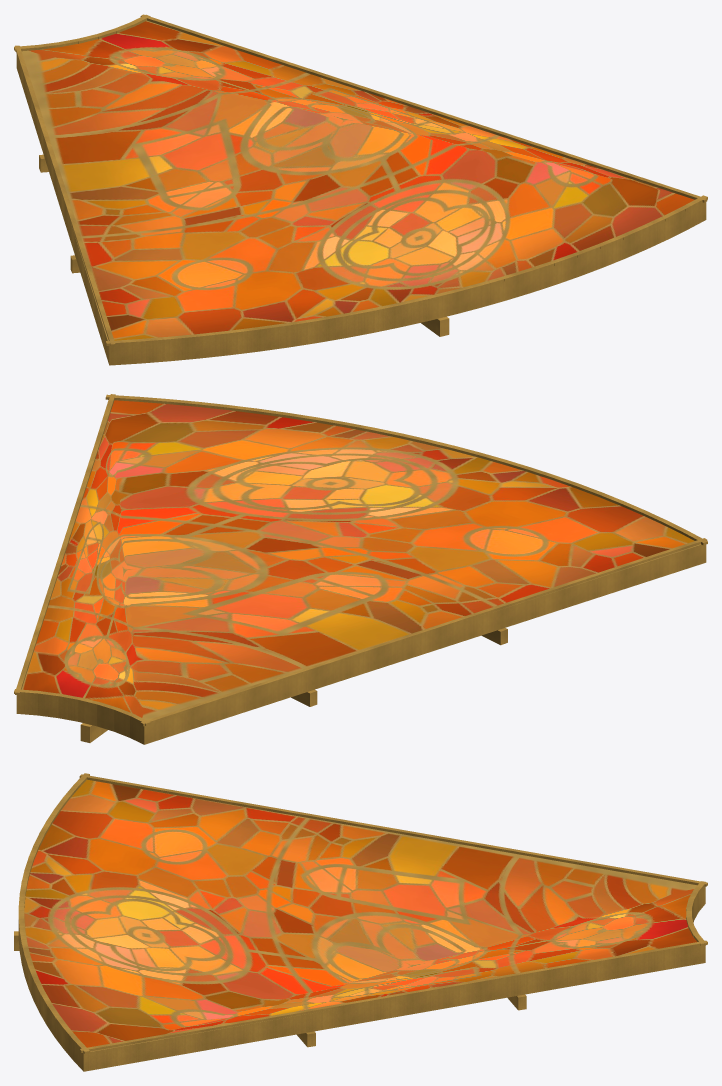
Rendered from lb_wedge_1.glb.
3 views of the same model, one above another, from view 1: azimuth 30°, elevation 25°; view 2: azimuth 150°, elevation 25°; view 3: azimuth 270°, elevation 25° (orthographic). The views are drawn at different scales.
Parts seen in each view (by area): view 1: lb_wedge_1; view 2: lb_wedge_1; view 3: lb_wedge_1.
Boxes of the visible parts, bbox=[...] form: lb_wedge_1: bbox=[14, 14, 707, 365]; lb_wedge_1: bbox=[14, 394, 707, 744]; lb_wedge_1: bbox=[14, 773, 707, 1071].
Bounding box in the file's own units: 11.56 × 1.35 × 12.17.
Materials: 4 (3 with a texture image).
